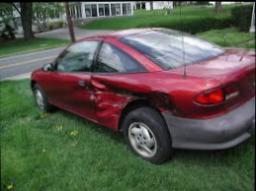Door: (50, 43, 97, 121)
Fender: (92, 69, 184, 131)
